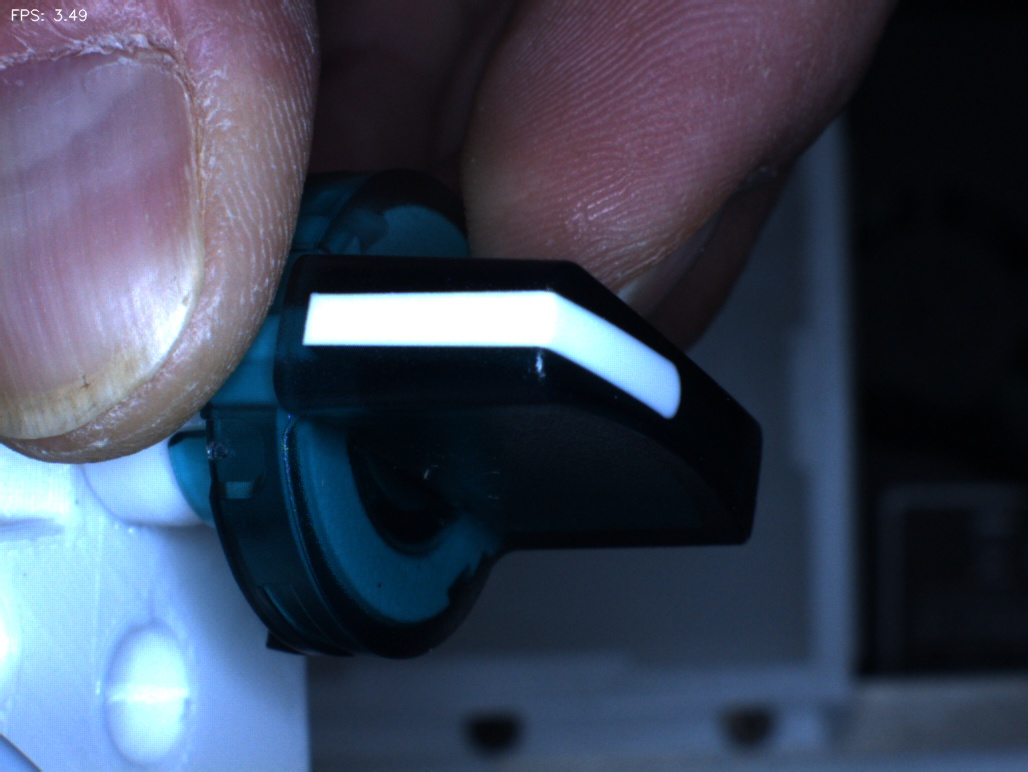PointNoir: (350, 559, 407, 616)
